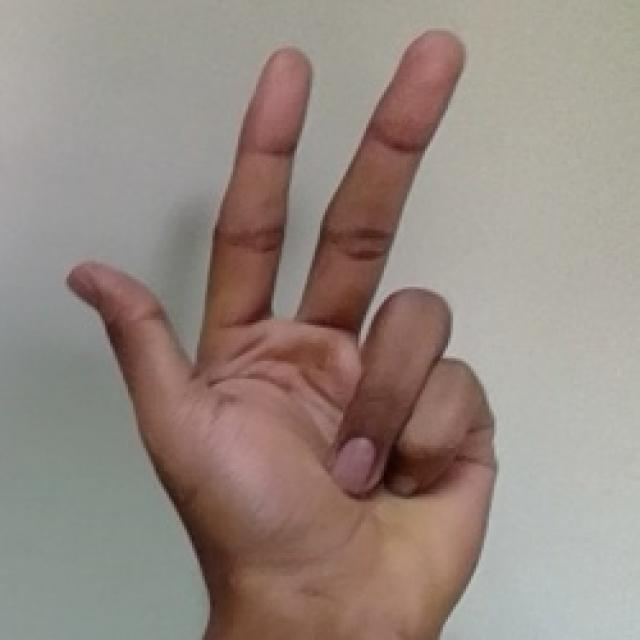Numeric-3: (56, 26, 501, 624)
